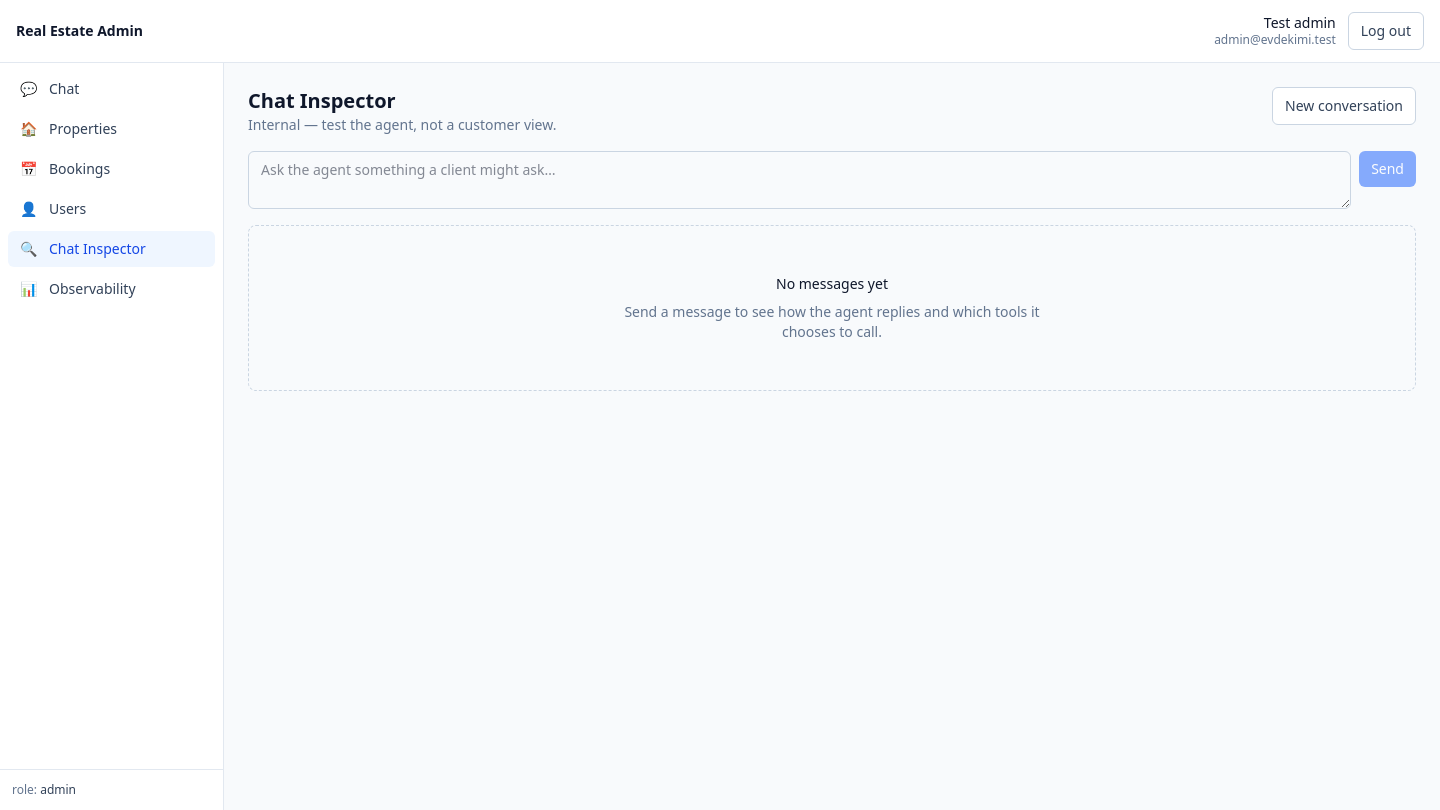
Scenario: ChatInspectorPage retry fidelity › retries with the same message and does not disturb other turns
In the text box named "Message": (800, 180) [248,151,1351,209], type "message one"
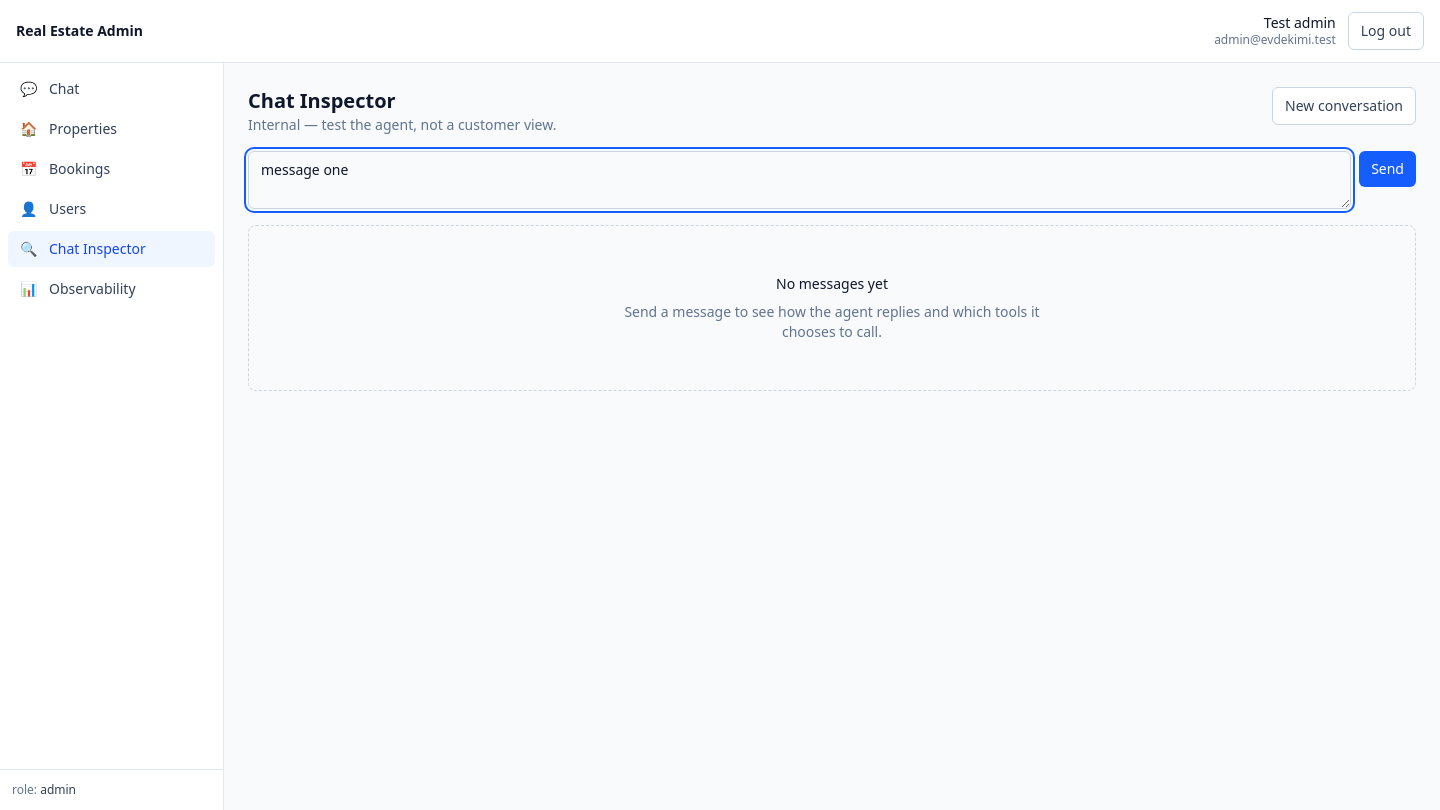
Click the button "Send": (1388, 169) [1359,151,1416,187]
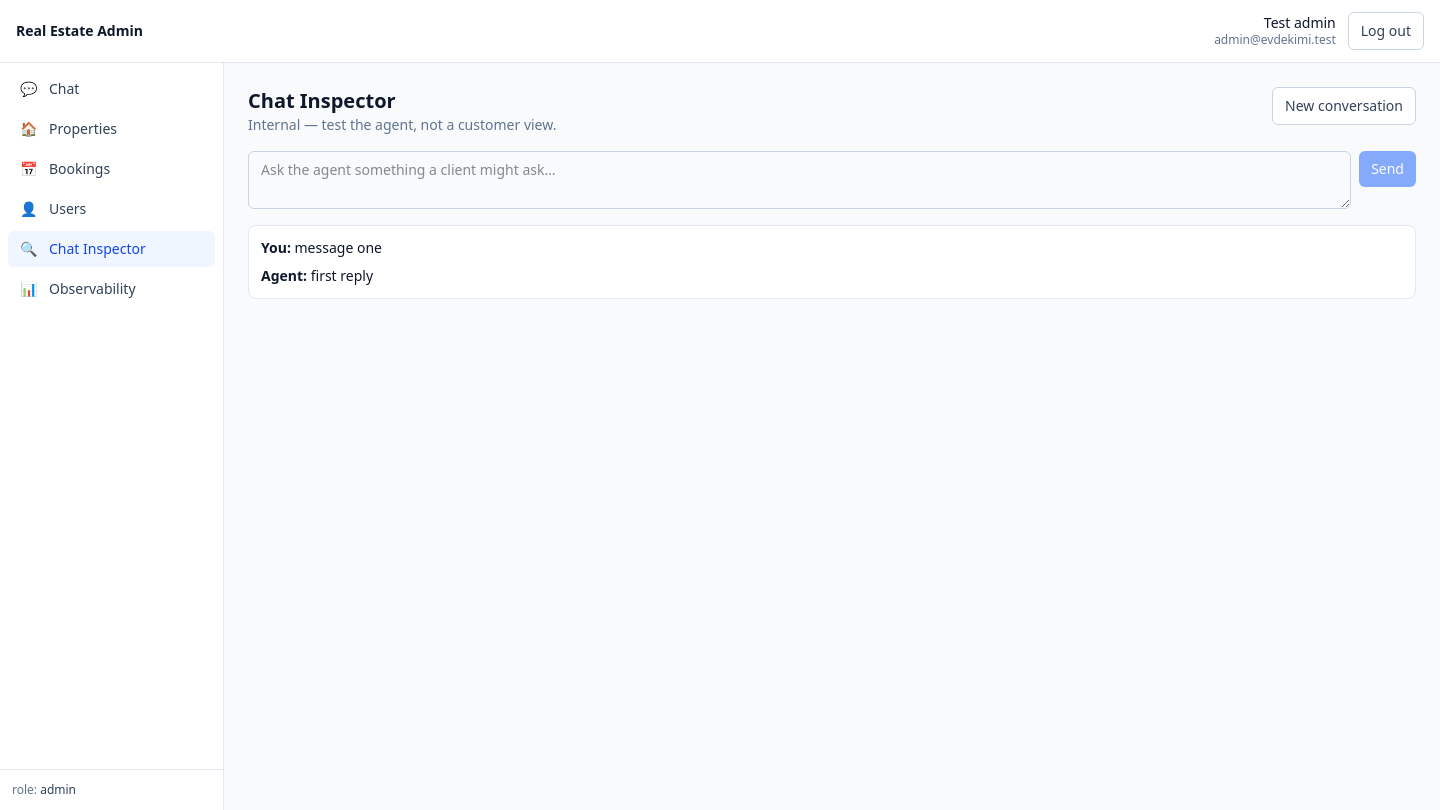
Now the text "first reply" is shown, box [311,266,373,285]
In the text box named "Message": (800, 180) [248,151,1351,209], type "message two"
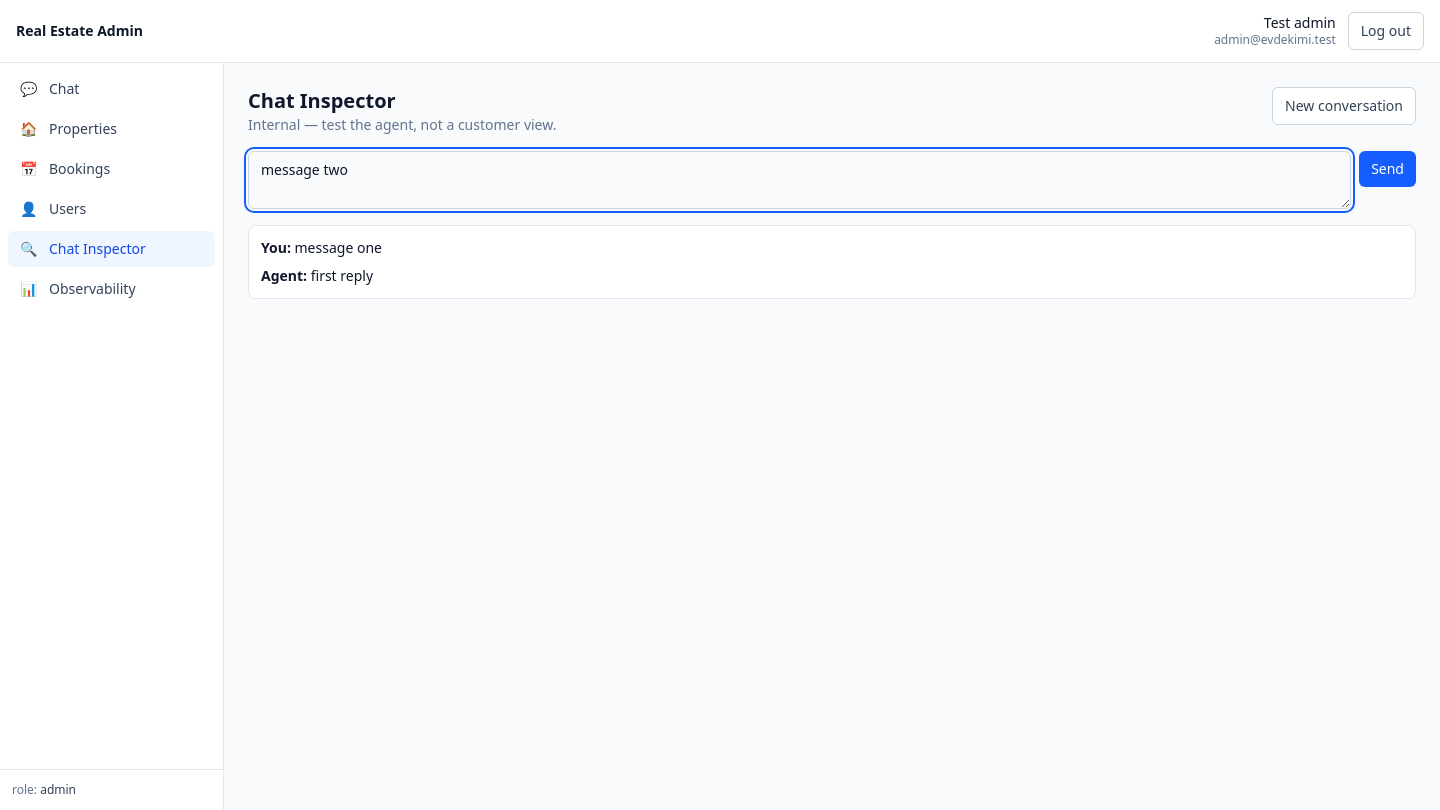
Click the button "Send": (1388, 169) [1359,151,1416,187]
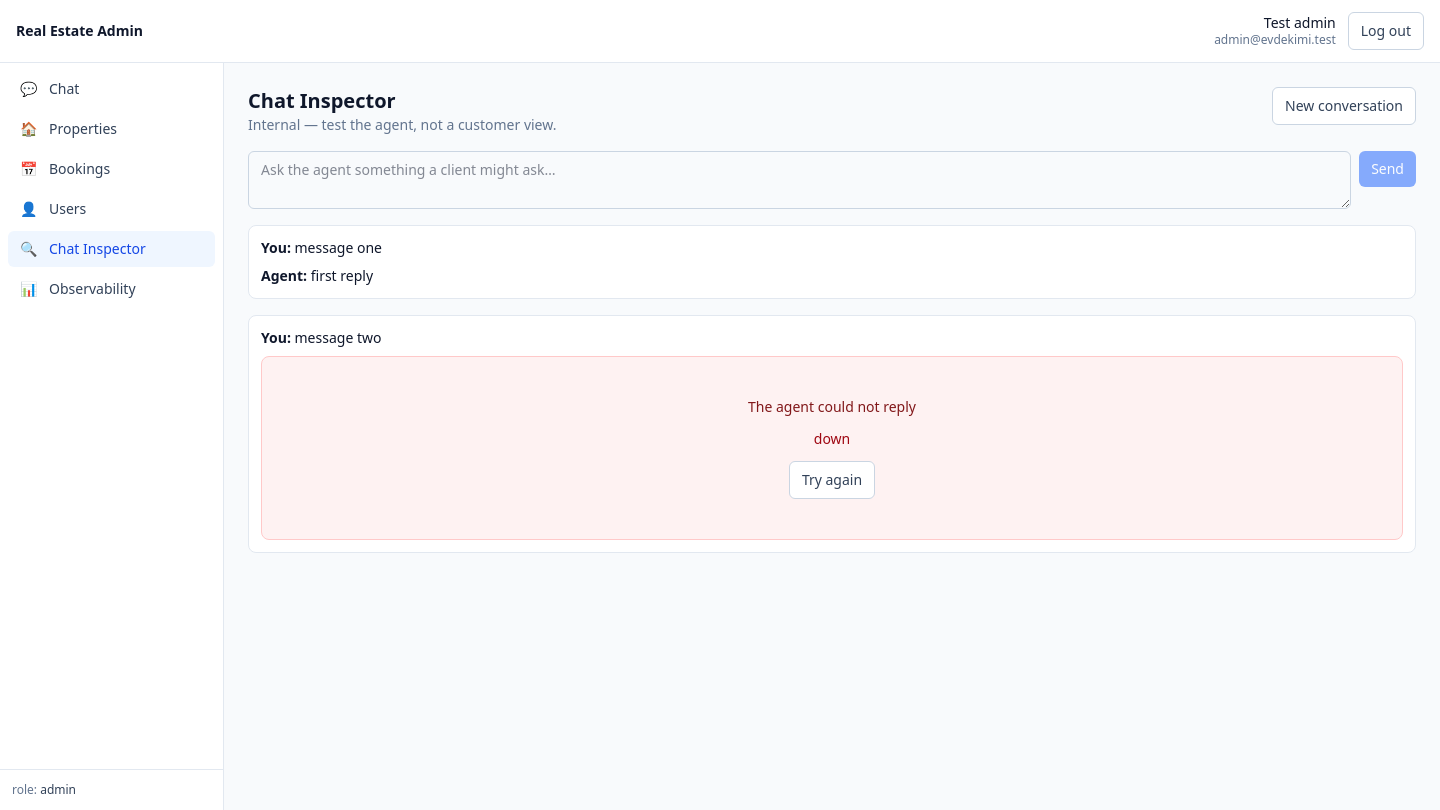
Now the text "first reply" is shown, box [311,266,373,285]
Now the message "The agent could not reply down Try again" is shown, box [261,356,1403,540]
Click the button "Try again": (832, 480) [789,461,875,499]
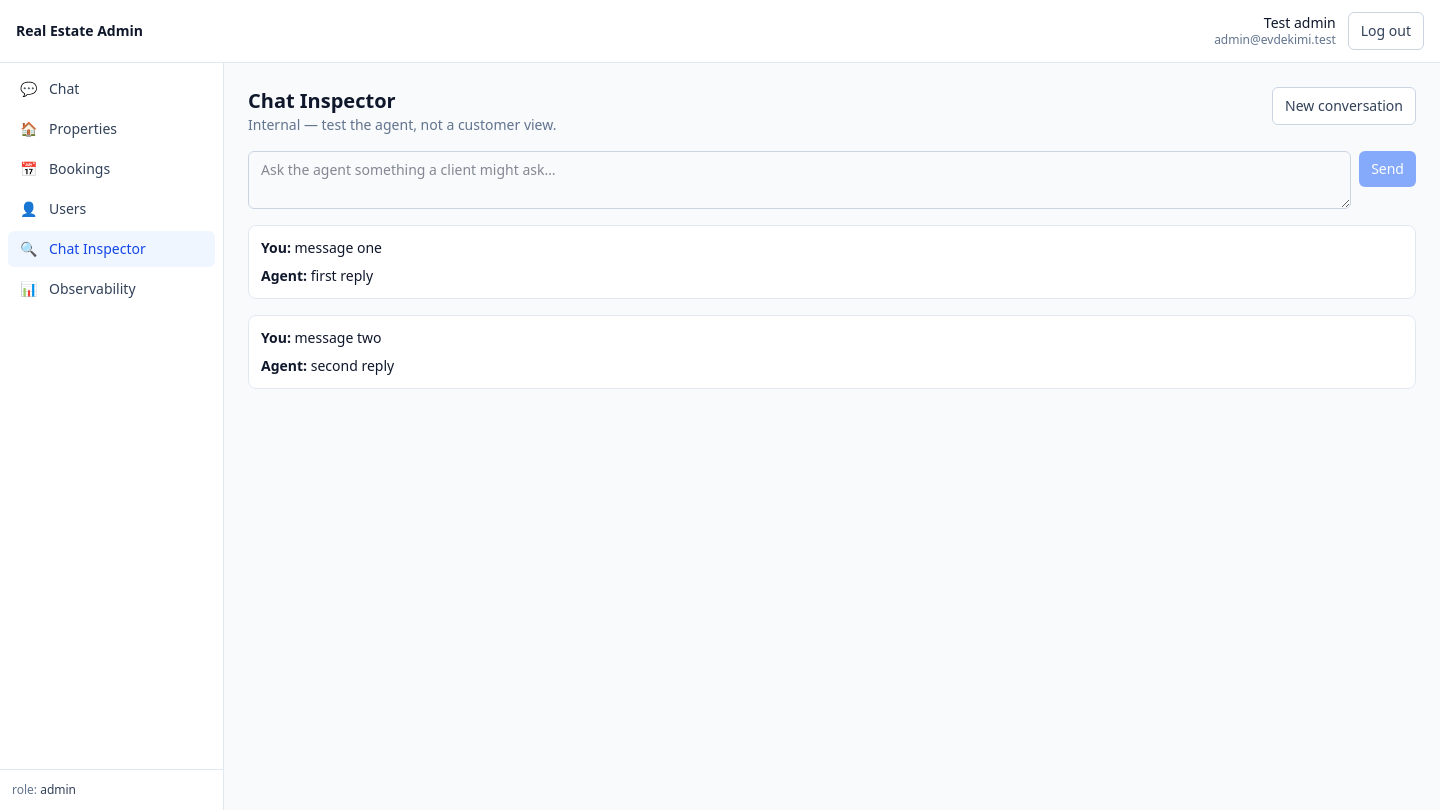
Now the text "first reply" is shown, box [311,266,373,285]
Now the text "second reply" is shown, box [311,356,394,375]
Now the message with test id "error-state" is gone
